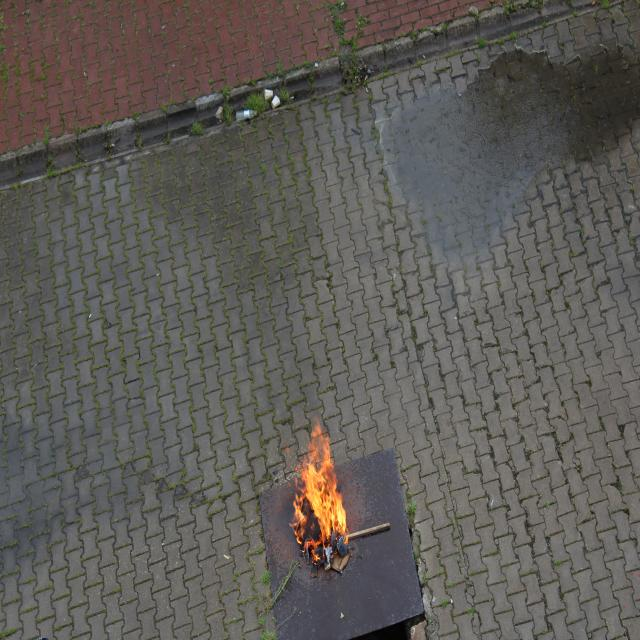fire: (290, 417, 356, 575)
